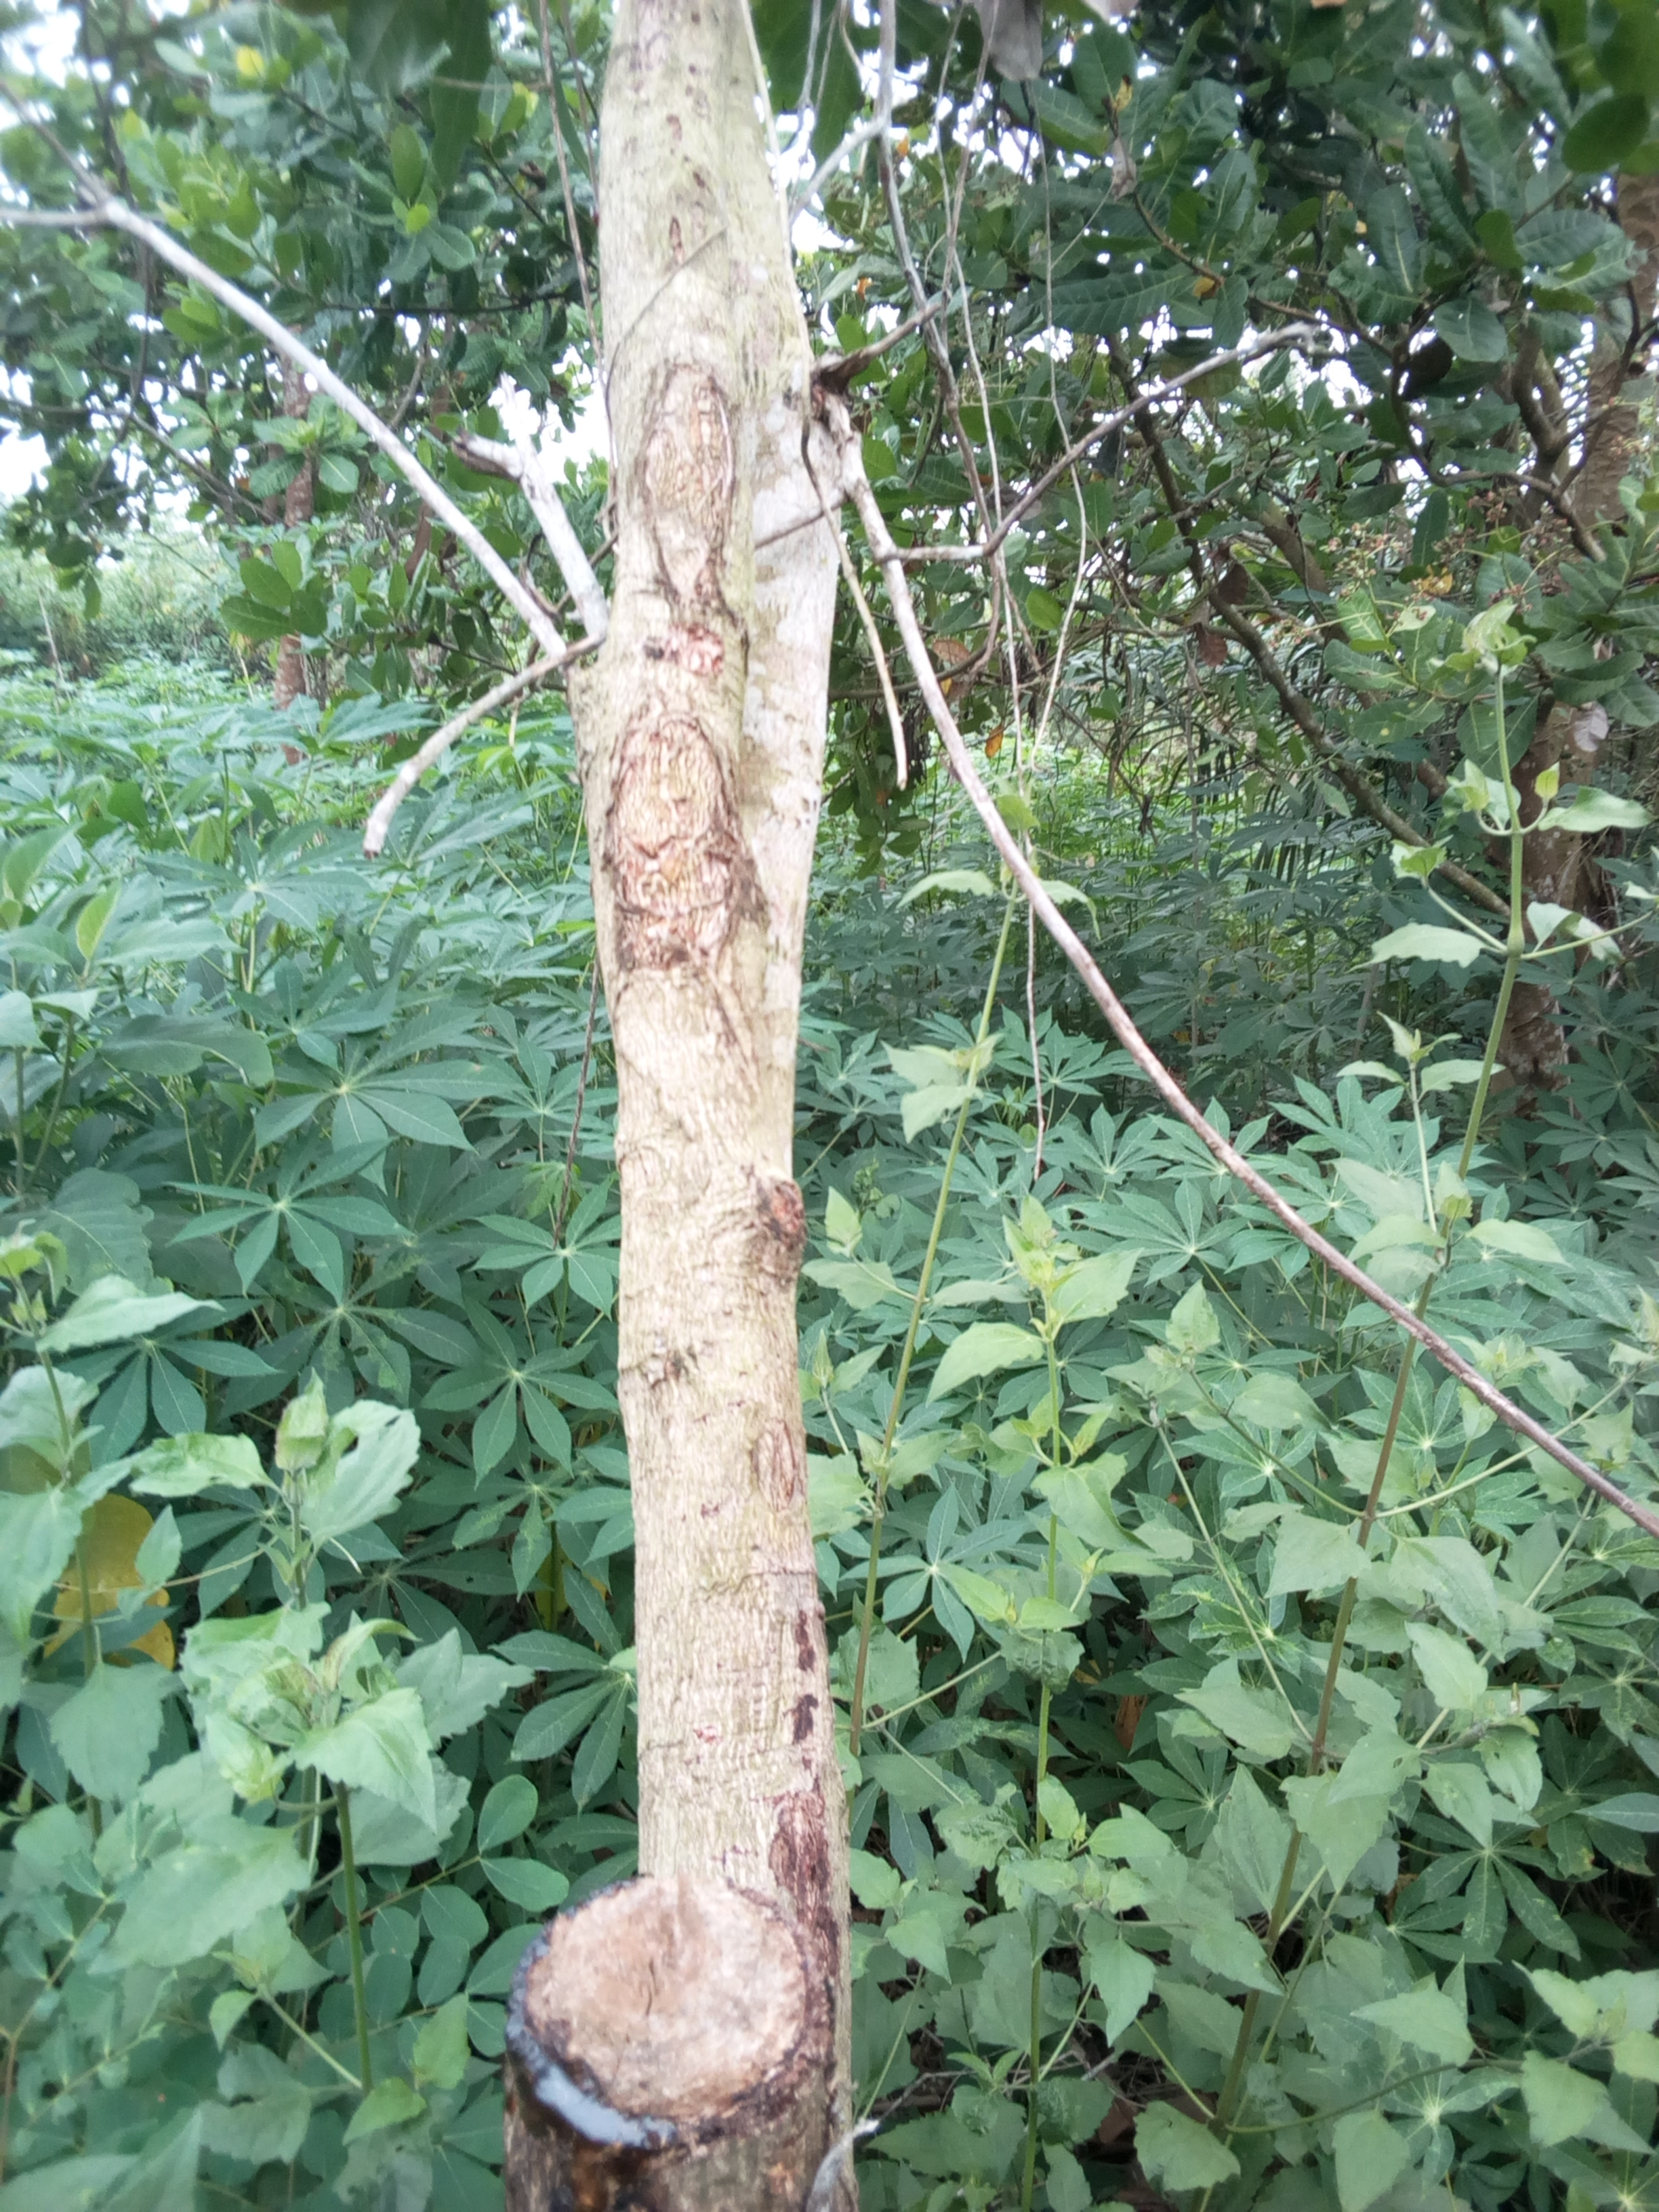Analepse trifasciata: (450, 1848, 890, 2135)
